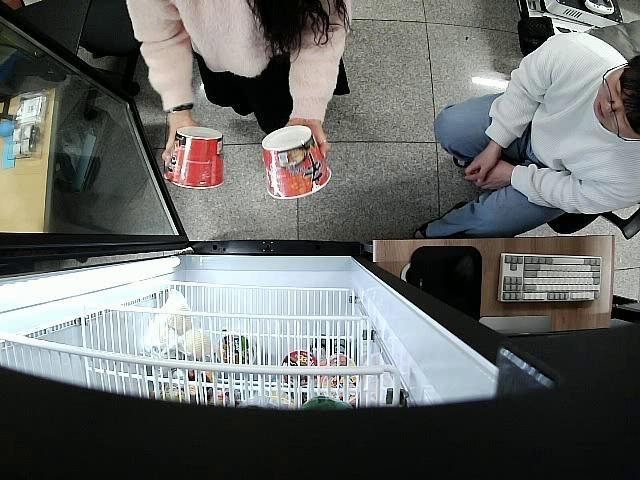01_ShinRamen_L: (261, 125, 332, 200), (162, 124, 227, 190)
